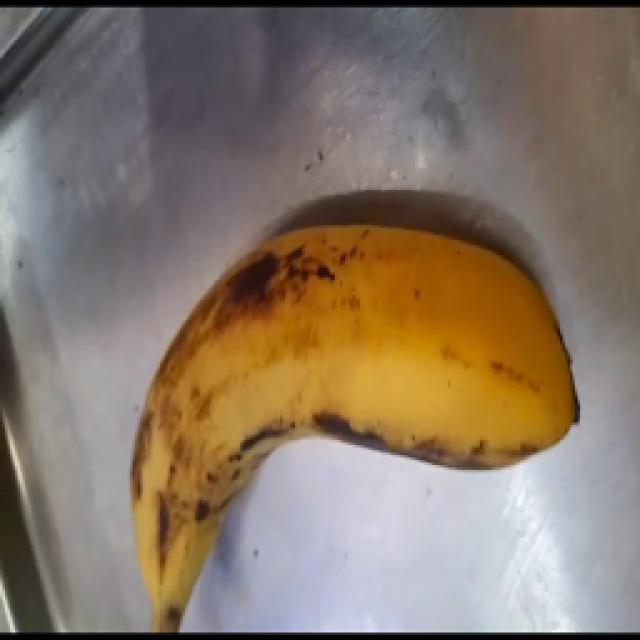Rotten_Banana: (136, 162, 585, 528)
